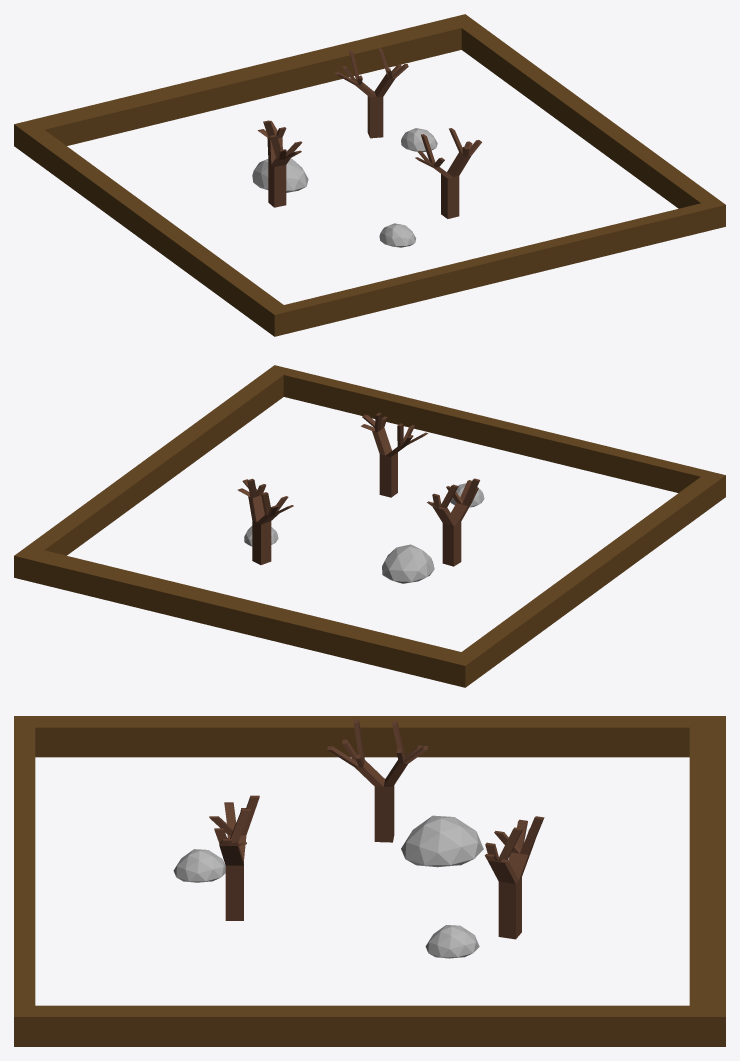
The model's file is forest.glb.
The picture shows the model from 3 angles, top to bottom: view 1: azimuth 30°, elevation 25°; view 2: azimuth 150°, elevation 25°; view 3: azimuth 270°, elevation 25°; orthographic projection. The views are drawn at different scales.
Parts seen in each view (by area): view 1: Fence, Tree 3, Tree 1, Tree 2, Rock 1, Rock 3, Rock 2; view 2: Fence, Tree 1, Tree 2, Tree 3, Rock 1; view 3: Fence, Tree 2, Rock 1, Tree 1, Tree 3, Rock 2, Rock 3.
Boxes of the visible parts, left/top/right/bottom form: Fence: left=14, top=14, right=725, bottom=336; Tree 3: left=415, top=128, right=481, bottom=218; Tree 1: left=257, top=120, right=302, bottom=207; Tree 2: left=335, top=48, right=408, bottom=138; Rock 1: left=252, top=158, right=308, bottom=192; Rock 3: left=379, top=223, right=416, bottom=247; Rock 2: left=401, top=128, right=437, bottom=152; Fence: left=14, top=365, right=725, bottom=687; Tree 1: left=427, top=478, right=479, bottom=566; Tree 2: left=237, top=478, right=293, bottom=564; Tree 3: left=361, top=412, right=427, bottom=497; Rock 1: left=382, top=544, right=434, bottom=583; Fence: left=14, top=716, right=725, bottom=1046; Tree 2: left=484, top=816, right=544, bottom=939; Rock 1: left=401, top=815, right=483, bottom=867; Tree 1: left=327, top=719, right=428, bottom=842; Tree 3: left=209, top=795, right=259, bottom=920; Rock 2: left=425, top=925, right=479, bottom=958; Rock 3: left=173, top=849, right=225, bottom=882.
Size of what is drawn, in the model's own units: 9.74 by 1.69 by 9.74.
Materials: 1 (1 with a texture image).
